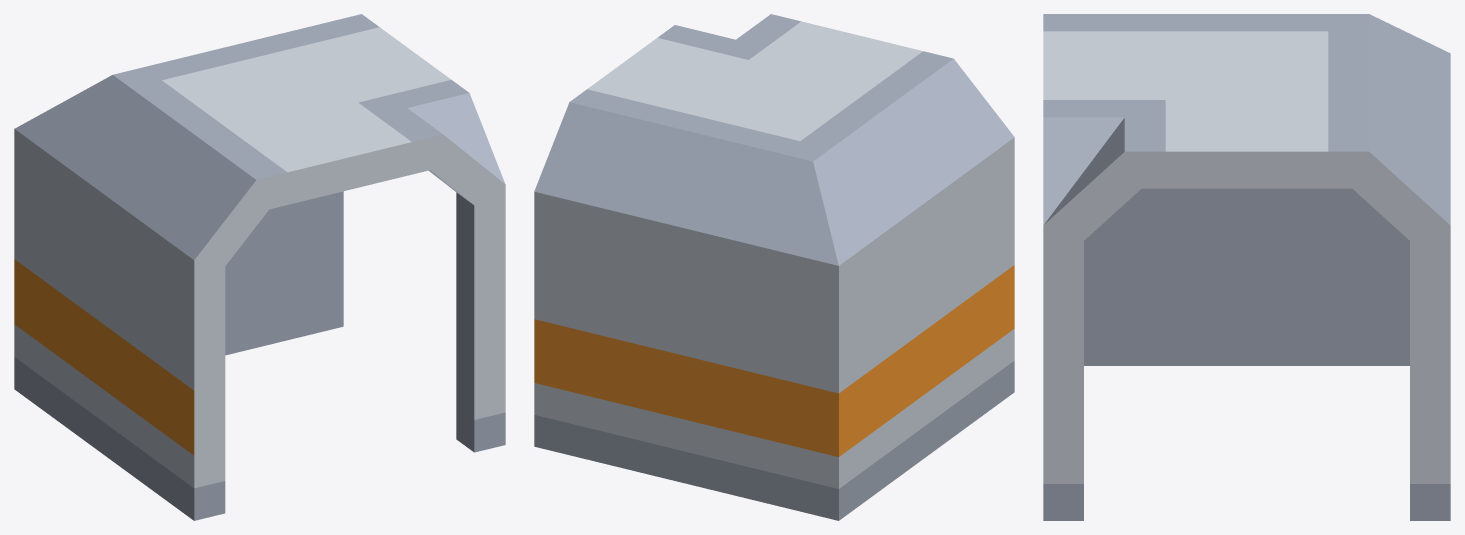
File: corridor_corner.fbx
3 views of the same model, side by side, from view 1: azimuth 30°, elevation 25°; view 2: azimuth 150°, elevation 25°; view 3: azimuth 270°, elevation 25° (orthographic). The views are drawn at different scales.
Parts seen in each view (by area): view 1: corridor_corner; view 2: corridor_corner; view 3: corridor_corner.
Boxes of the visible parts, x1,y1,x2,y2 form: corridor_corner: (14, 14, 505, 520); corridor_corner: (534, 14, 1014, 520); corridor_corner: (1043, 14, 1450, 520).
Bounding box in the file's own units: 10 × 10 × 10.
